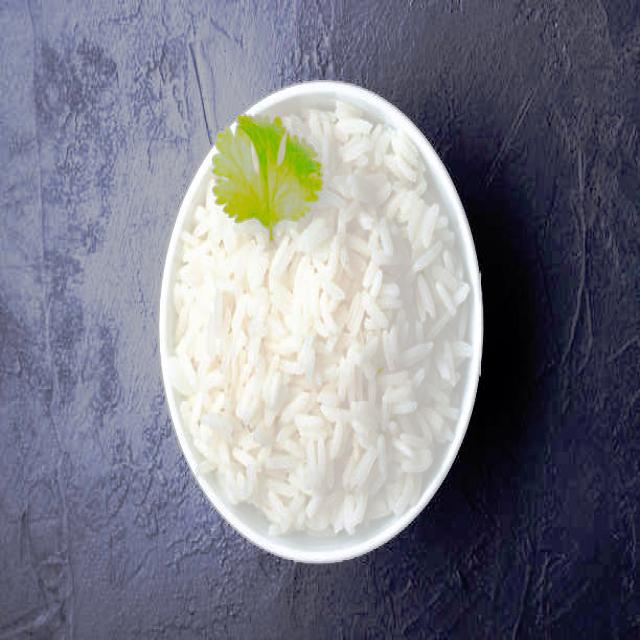rice: (164, 102, 474, 536)
